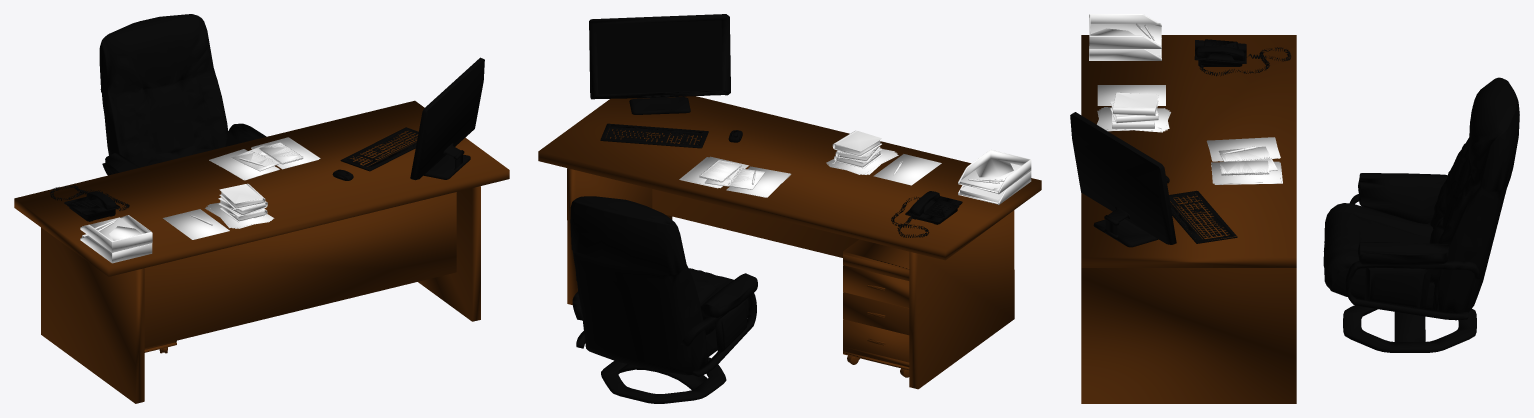
The model's file is office_desk.glb.
3 renders of one model, left to right at view 1: azimuth 30°, elevation 25°; view 2: azimuth 150°, elevation 25°; view 3: azimuth 270°, elevation 25°, orthographic. The views are drawn at different scales.
Parts seen in each view (by area): view 1: Object_40, Object_22, Object_2, Object_29, Object_25, Object_30, Object_23, Object_3, Object_14, Object_19, Object_18; view 2: Object_40, Object_22, Object_2, Object_23, Object_29, Object_25, Object_30, Object_21, Object_19, Object_24, Object_3, Object_18 (+1 smaller); view 3: Object_40, Object_22, Object_23, Object_2, Object_24, Object_29, Object_25, Object_30, Object_21, Object_3, Object_14, Object_19 (+1 smaller).
Boxes of the visible parts, x1,y1,x2,y2 form: Object_40: (14,100,509,403); Object_22: (99,14,228,174); Object_2: (410,57,484,180); Object_29: (80,142,302,263); Object_25: (95,137,320,228); Object_30: (82,202,274,240); Object_23: (105,123,266,174); Object_3: (424,143,470,179); Object_14: (64,191,120,221); Object_19: (340,127,418,171); Object_18: (348,129,417,164); Object_40: (538,96,1041,389); Object_22: (570,196,708,375); Object_2: (589,14,730,99); Object_23: (576,273,757,403); Object_29: (700,141,1031,204); Object_25: (679,130,999,203); Object_30: (826,148,1029,202); Object_21: (572,291,756,376); Object_19: (600,123,708,148); Object_24: (689,268,748,356); Object_3: (629,96,690,114); Object_18: (606,125,701,143); Object_40: (1081,35,1296,403); Object_22: (1429,77,1519,312); Object_23: (1343,173,1476,352); Object_2: (1070,112,1176,244); Object_24: (1323,203,1434,309); Object_29: (1089,14,1269,175); Object_25: (1113,24,1282,184); Object_30: (1089,14,1170,132); Object_21: (1345,194,1480,320); Object_3: (1093,206,1158,247); Object_14: (1194,40,1246,66); Object_19: (1169,190,1237,243).
Size of the model in its own units: 2.25 by 1.2 by 1.88.
